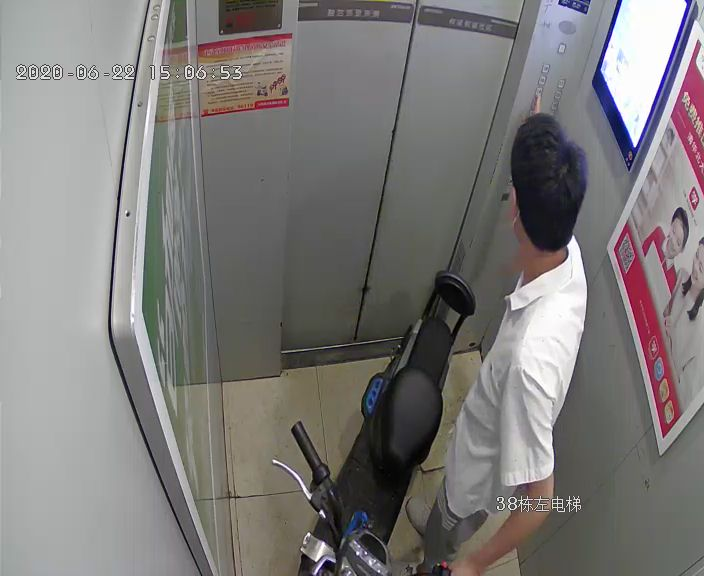Electric-bicycle: (271, 273, 474, 575)
